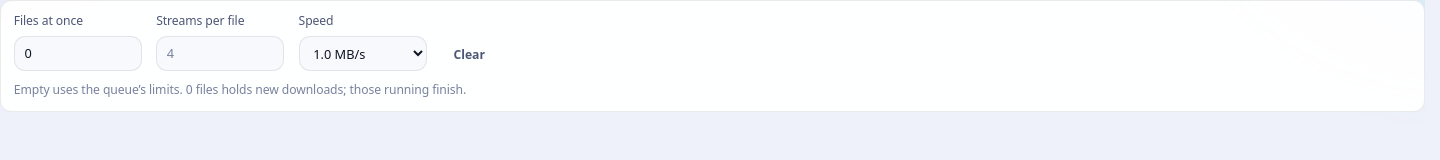
it: clears the job’s limits outright, and offers no Clear without any
The image size is (1440, 160).
What coordinates should you click on to do the following:
click the button "Clear"
I would click on:
 (469, 55)
Its box is [441,40,498,71].
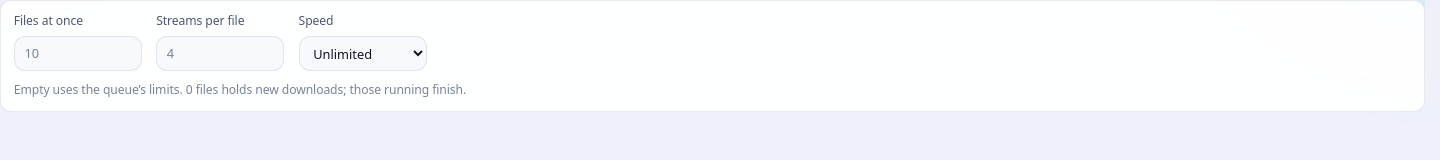
Result: no buttons are shown
